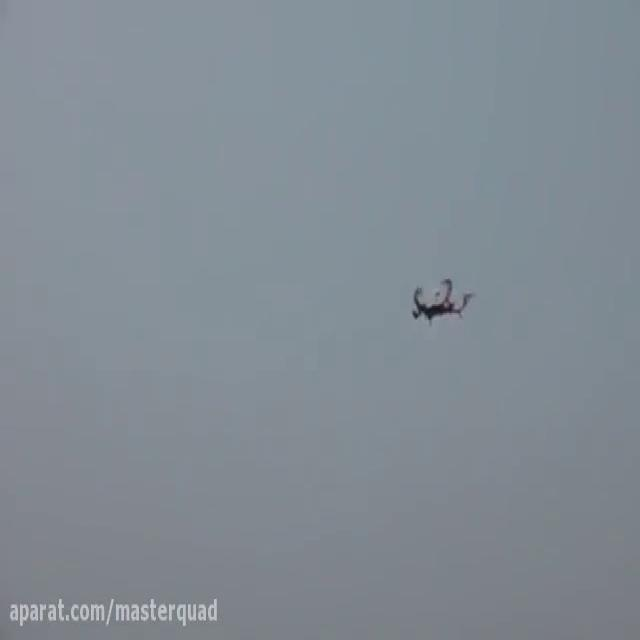drone: (406, 265, 478, 332)
